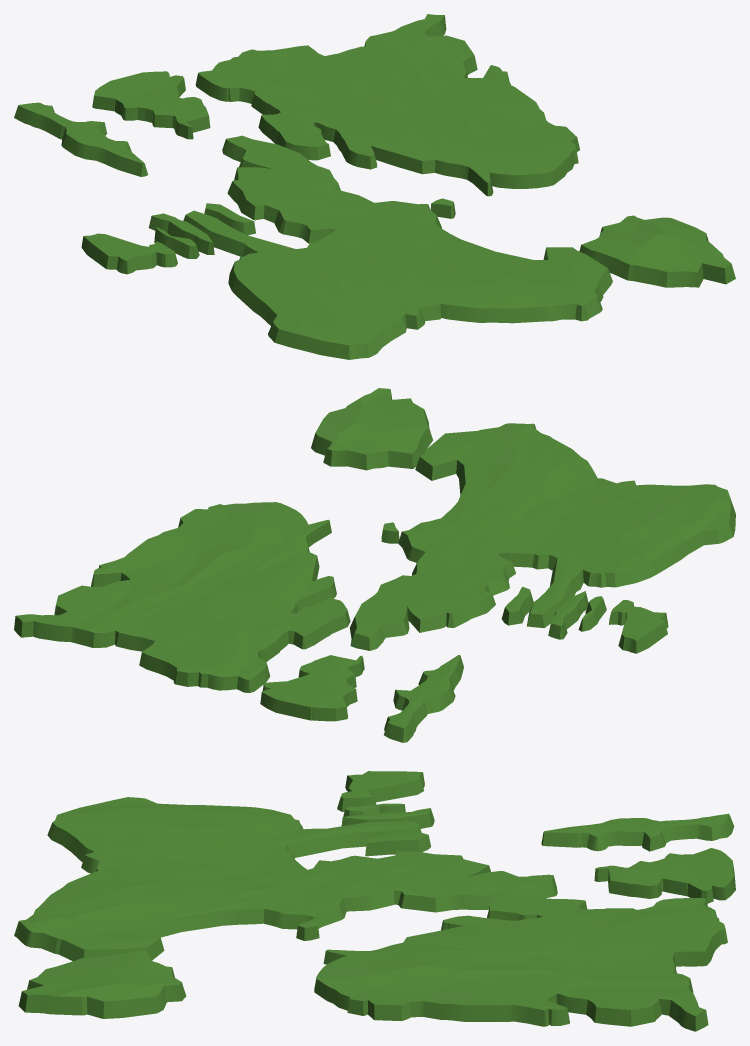
The model's file is grass_layer_block_D.fbx.
The picture shows the model from 3 angles, top to bottom: view 1: azimuth 30°, elevation 25°; view 2: azimuth 150°, elevation 25°; view 3: azimuth 270°, elevation 25°; orthographic projection. The views are drawn at different scales.
Parts seen in each view (by area): view 1: grass_layer_block_D_A, grass_layer_block_D_B, grass_layer_block_D_C, grass_layer_block_D_D, grass_layer_block_D_E, grass_layer_block_D_F, grass_layer_block_D_G, grass_layer_block_D_H, grass_layer_block_D_I; view 2: grass_layer_block_D_A, grass_layer_block_D_B, grass_layer_block_D_C, grass_layer_block_D_D, grass_layer_block_D_E, grass_layer_block_D_F, grass_layer_block_D_G, grass_layer_block_D_H, grass_layer_block_D_I; view 3: grass_layer_block_D_A, grass_layer_block_D_B, grass_layer_block_D_C, grass_layer_block_D_D, grass_layer_block_D_E, grass_layer_block_D_F, grass_layer_block_D_H, grass_layer_block_D_G, grass_layer_block_D_I.
Part boxes in pixels (bbox=[...]): grass_layer_block_D_A: bbox=[183, 135, 612, 359]; grass_layer_block_D_B: bbox=[195, 14, 579, 196]; grass_layer_block_D_C: bbox=[579, 215, 735, 287]; grass_layer_block_D_D: bbox=[92, 71, 210, 139]; grass_layer_block_D_E: bbox=[14, 102, 147, 176]; grass_layer_block_D_F: bbox=[81, 233, 177, 274]; grass_layer_block_D_G: bbox=[148, 213, 214, 254]; grass_layer_block_D_H: bbox=[204, 203, 255, 235]; grass_layer_block_D_I: bbox=[154, 227, 199, 258]; grass_layer_block_D_A: bbox=[350, 423, 735, 650]; grass_layer_block_D_B: bbox=[14, 502, 350, 692]; grass_layer_block_D_C: bbox=[311, 388, 432, 470]; grass_layer_block_D_D: bbox=[260, 655, 364, 721]; grass_layer_block_D_E: bbox=[384, 655, 463, 742]; grass_layer_block_D_F: bbox=[609, 600, 668, 653]; grass_layer_block_D_G: bbox=[548, 591, 588, 639]; grass_layer_block_D_H: bbox=[501, 586, 533, 625]; grass_layer_block_D_I: bbox=[578, 596, 606, 631]; grass_layer_block_D_A: bbox=[14, 797, 557, 961]; grass_layer_block_D_B: bbox=[314, 896, 727, 1031]; grass_layer_block_D_C: bbox=[18, 951, 186, 1018]; grass_layer_block_D_D: bbox=[594, 848, 735, 903]; grass_layer_block_D_E: bbox=[541, 813, 734, 851]; grass_layer_block_D_F: bbox=[337, 771, 424, 811]; grass_layer_block_D_H: bbox=[365, 832, 430, 856]; grass_layer_block_D_G: bbox=[341, 808, 434, 828]; grass_layer_block_D_I: bbox=[343, 803, 405, 817].
Size of the model in its own units: 2292 by 75.24 by 2802.
